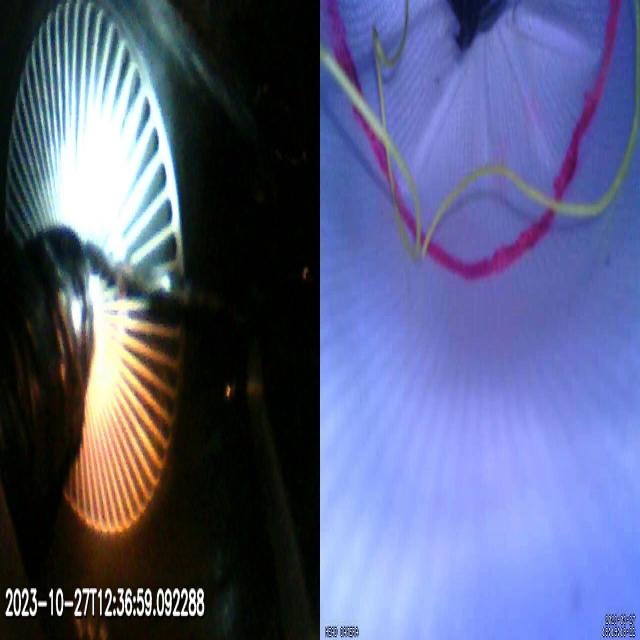red-circle: (321, 0, 620, 282)
